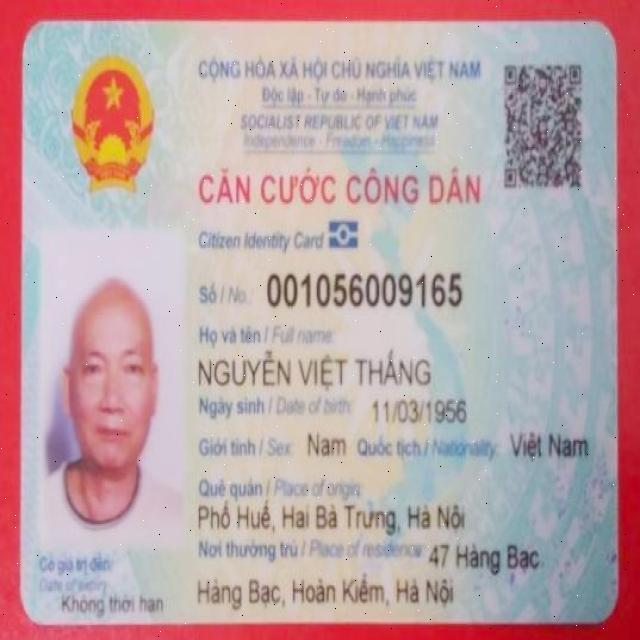current_place: (192, 574, 462, 613), (423, 539, 544, 572)
dob: (370, 396, 470, 426)
expire_date: (61, 590, 167, 618)
gender: (304, 424, 352, 464)
id: (263, 269, 467, 308)
name: (196, 345, 434, 390)
nationality: (506, 428, 595, 464)
origin_place: (193, 497, 473, 538)
qr: (496, 52, 592, 199)
